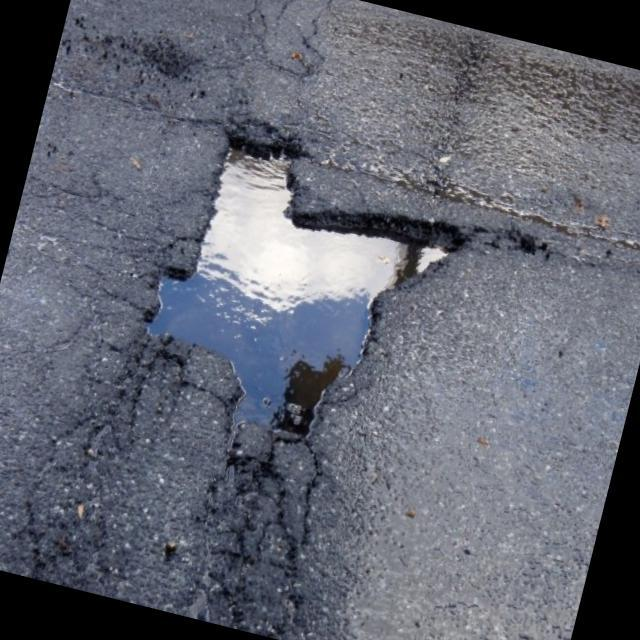Pothole: (104, 84, 490, 502)
